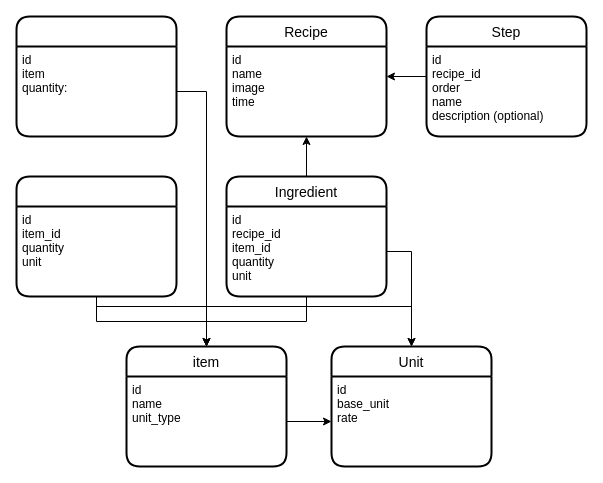
The diagram is 603 pixels wide and 483 high, and some of its shapes have lost their labels. The shapes that lost their labels are listed below. From the top down, each one's box as (x1, y1, x2, y2) in pixels, then its label:
(15, 15, 177, 137): Pantry
(15, 175, 177, 297): ShoppingList
